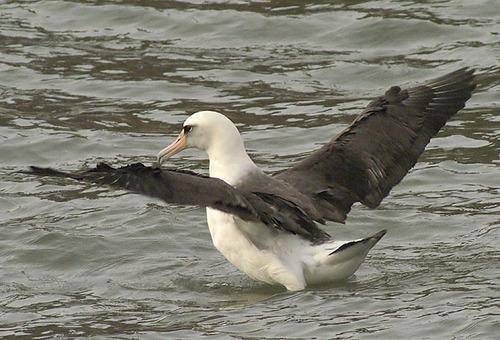002.Laysan_Albatross: (23, 67, 483, 294)
